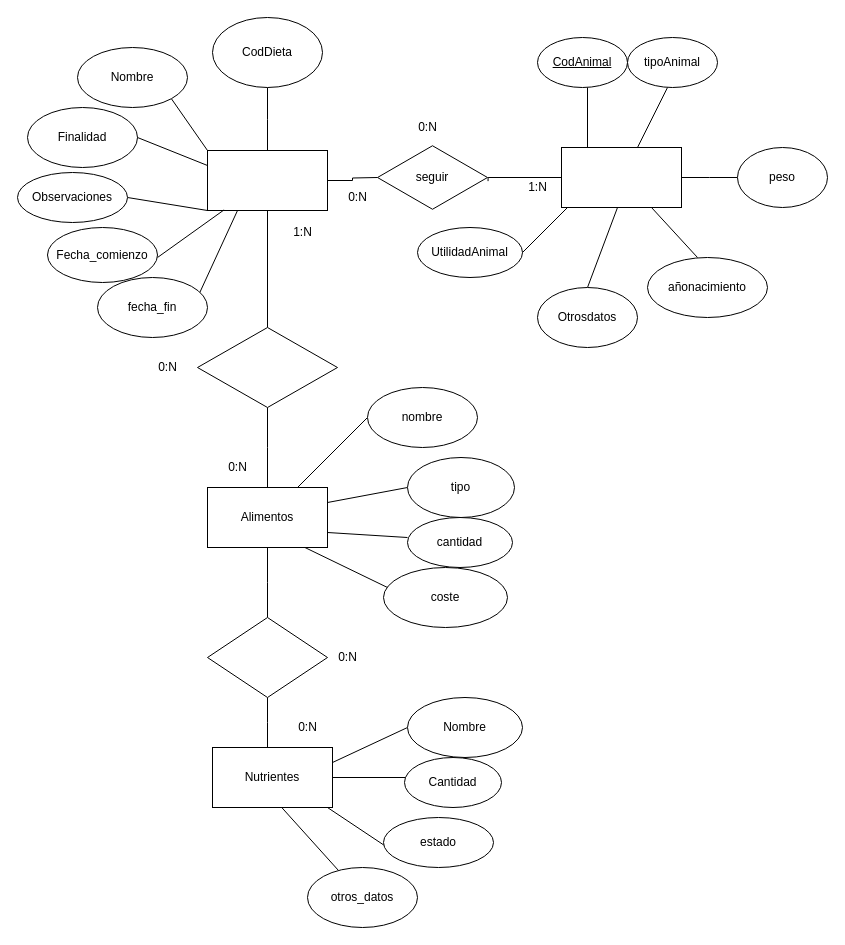
Image size: 845x945. Some labels were removed from this diagram. Here are the shapes that lost their labels. From the top down, the centre of each, then its label:
At point (267, 180): "Dieta".
At point (621, 177): "animales".
At point (267, 367): "Componer".
At point (267, 657): "contener".
